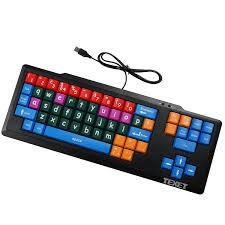keyboard: (0, 63, 222, 194)
